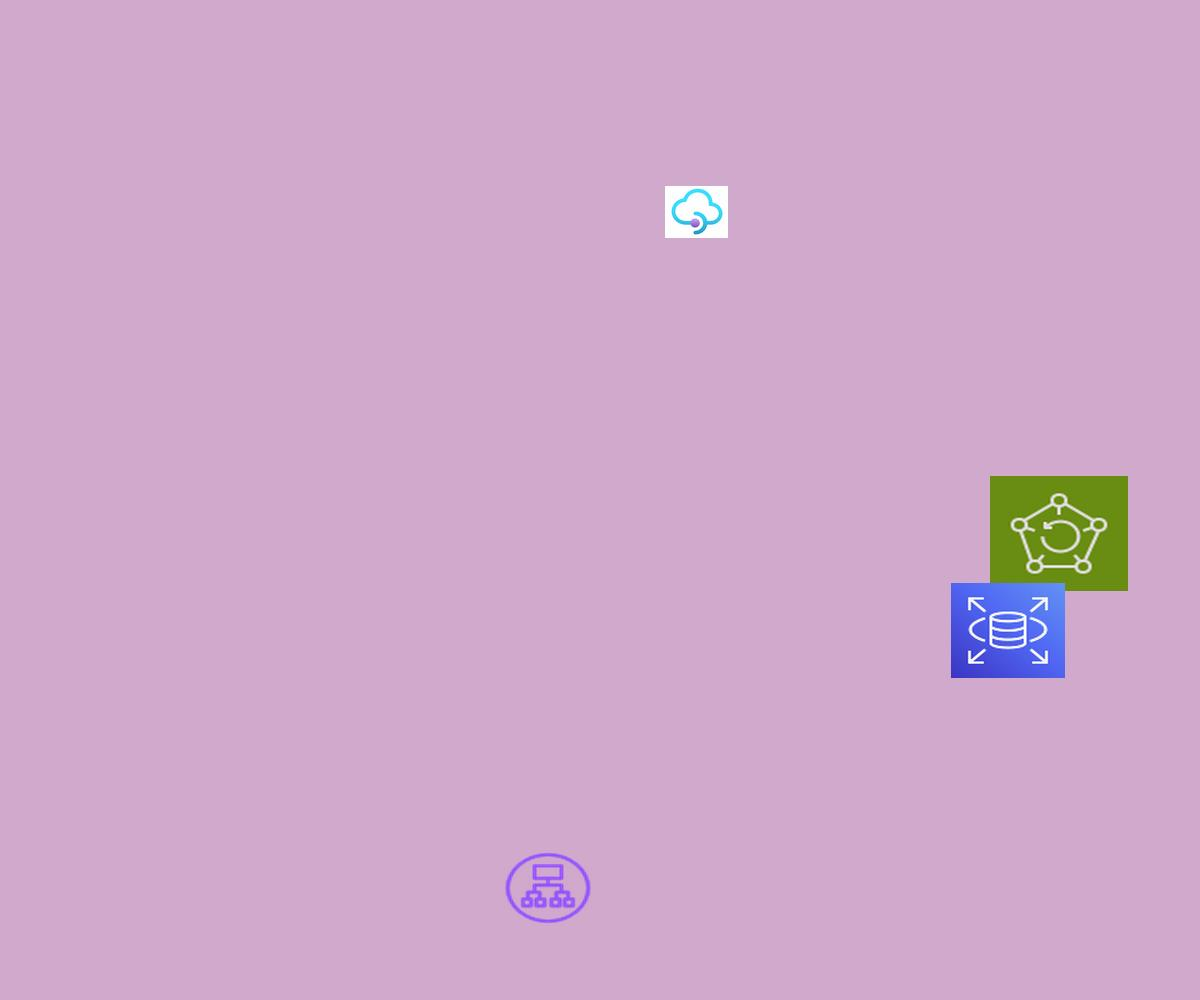AWS-Backup: (990, 476, 1128, 591)
AWS-RDS: (951, 583, 1065, 678)
AWS-Res_Elastic-Load-Balancing_Application-Load-Balancer: (502, 850, 594, 926)
Azure_api_gateway: (665, 186, 728, 238)
